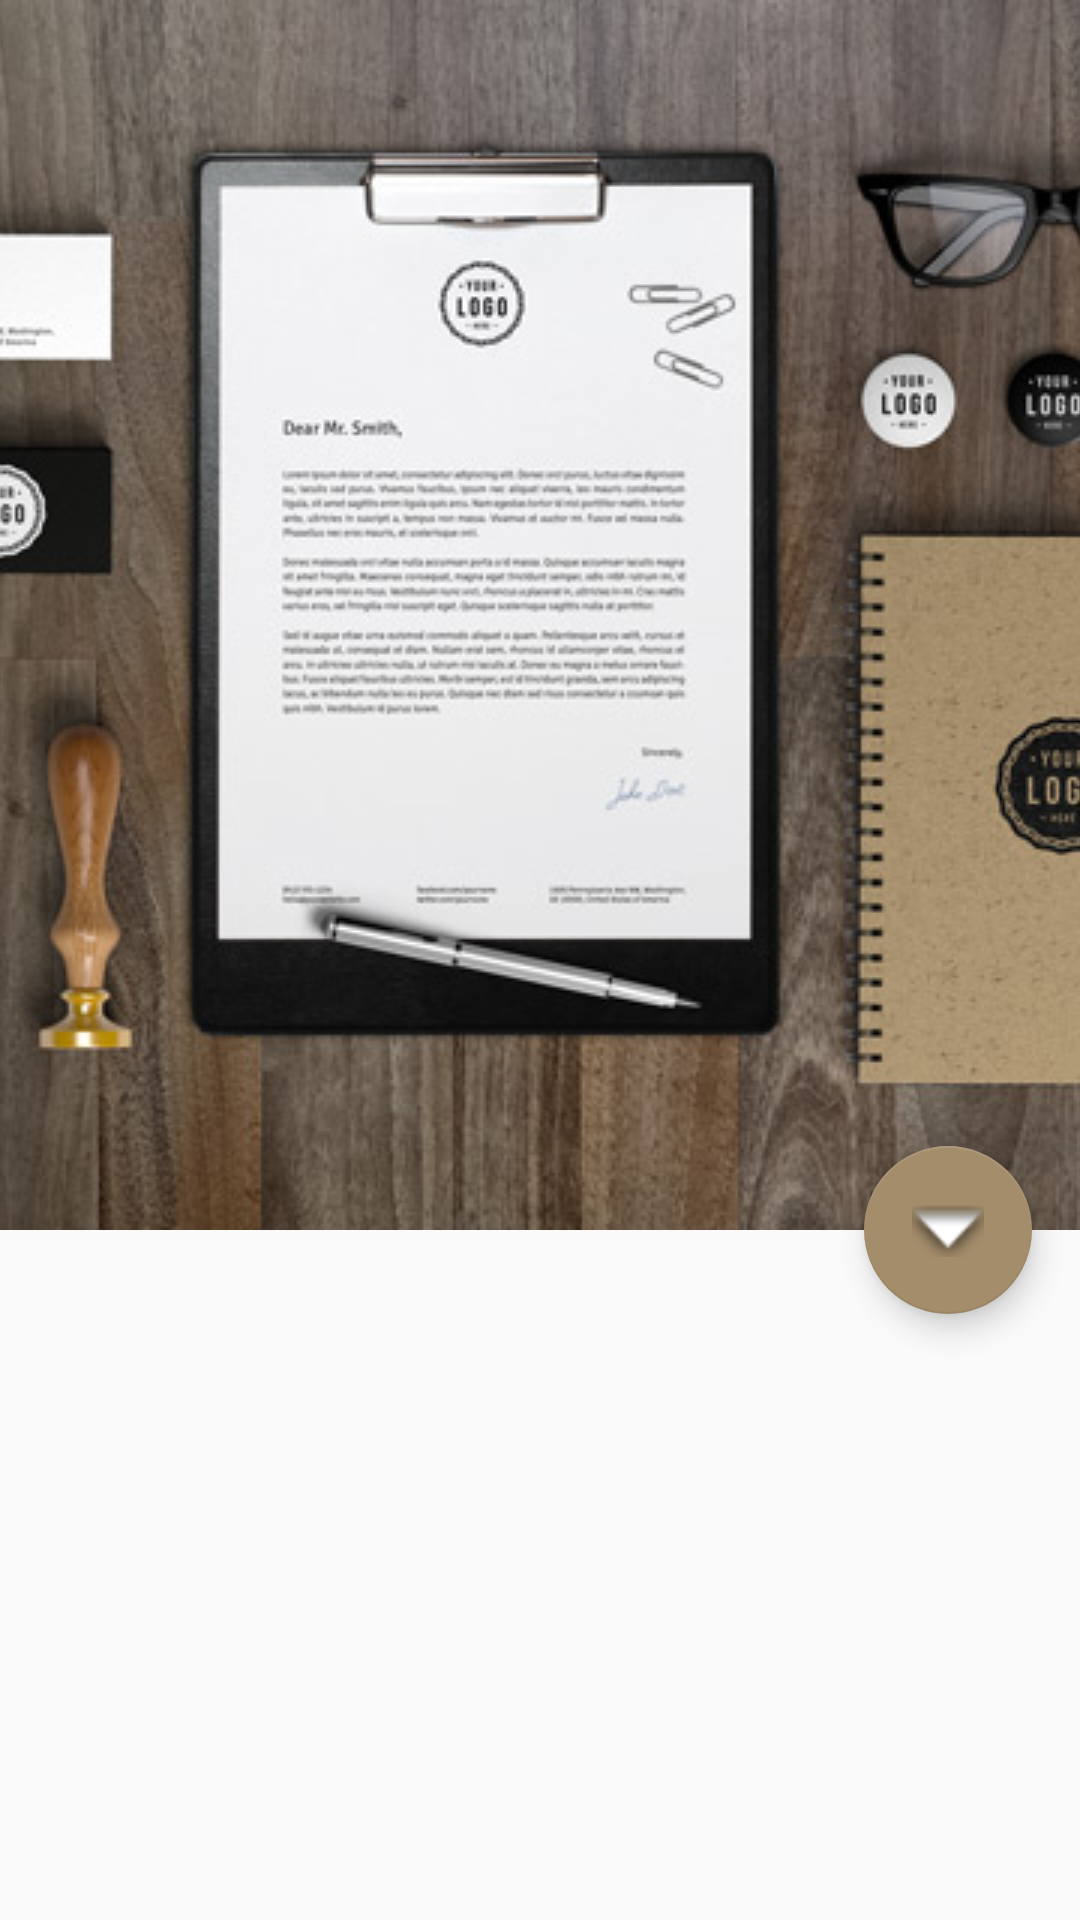

Point at icon controls on the screen. Image size 1080x1920, points as point (x, y).
arrow down float: point (948, 1230)
